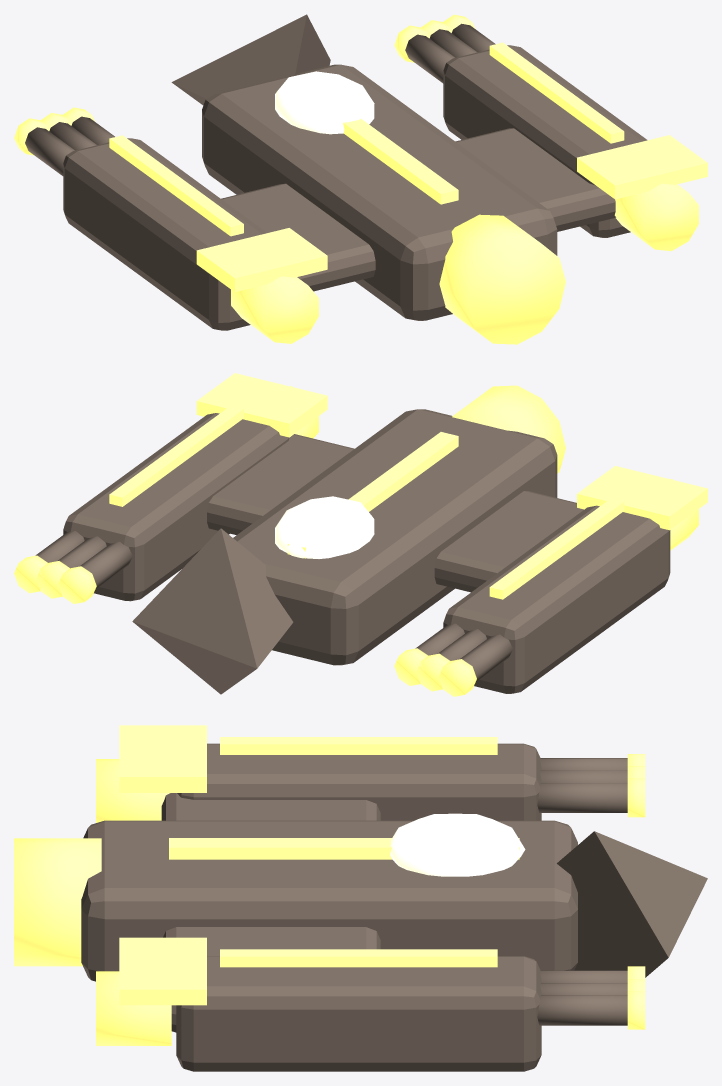
File: ship_storm.glb
The picture shows the model from 3 angles, top to bottom: view 1: azimuth 30°, elevation 25°; view 2: azimuth 150°, elevation 25°; view 3: azimuth 270°, elevation 25°; orthographic projection. The views are drawn at different scales.
Visible parts, largest first — view 1: hull, pod, wing, engine, pod.001, nose, pod_vent, pod_vent.001, cockpit, engine_pod, engine_pod.001, spine_glow (+10 smaller); view 2: hull, pod, pod.001, nose, wing, cockpit, pod_vent.001, pod_vent, engine, pod_glow, pod_glow.001, spine_glow (+13 smaller); view 3: hull, pod.001, pod, nose, engine, wing, cockpit, pod_vent.001, pod_vent, pod_glow.001, pod_glow, spine_glow (+10 smaller).
Part boxes in pixels (x1,y1,x2,y2): hull: [202, 64, 557, 320]; pod: [63, 138, 266, 330]; wing: [221, 128, 615, 291]; engine: [439, 214, 565, 344]; pod.001: [443, 45, 647, 237]; nose: [171, 14, 330, 105]; pod_vent: [196, 228, 327, 292]; pod_vent.001: [577, 135, 707, 199]; cockpit: [275, 71, 374, 134]; engine_pod: [231, 276, 318, 343]; engine_pod.001: [614, 183, 698, 251]; spine_glow: [343, 119, 458, 204]; hull: [233, 409, 557, 665]; pod: [443, 505, 670, 693]; pod.001: [63, 413, 289, 601]; nose: [132, 528, 293, 694]; wing: [207, 434, 583, 592]; cockpit: [275, 496, 374, 558]; pod_vent.001: [196, 373, 327, 437]; pod_vent: [577, 466, 707, 530]; engine: [452, 385, 565, 473]; pod_glow: [489, 498, 624, 599]; pod_glow.001: [109, 406, 243, 506]; spine_glow: [287, 432, 458, 558]; hull: [81, 820, 577, 981]; pod.001: [176, 956, 541, 1071]; pod: [177, 743, 541, 820]; nose: [557, 831, 707, 977]; engine: [14, 838, 101, 966]; wing: [161, 793, 380, 1032]; cockpit: [390, 813, 525, 876]; pod_vent.001: [119, 937, 206, 1005]; pod_vent: [119, 725, 206, 792]; pod_glow.001: [220, 949, 497, 967]; pod_glow: [220, 737, 497, 754]; spine_glow: [169, 838, 519, 859].
Size of the model in its own units: 2.14 by 0.72 by 2.37.
